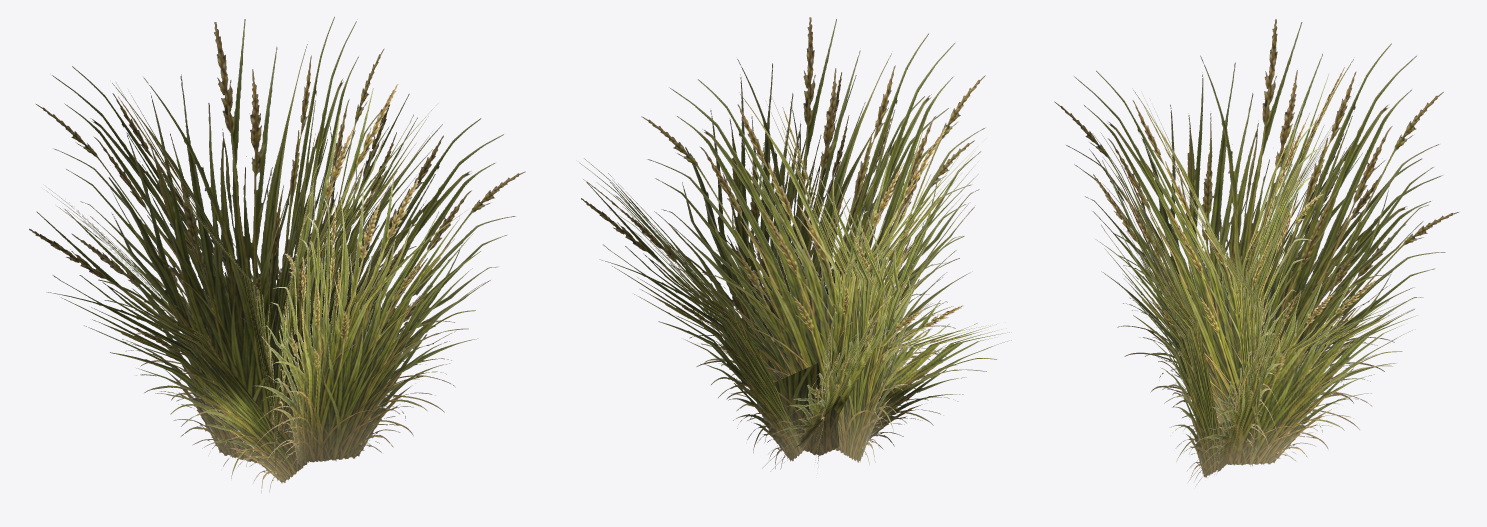
The model's file is SM_TallGrass_01.fbx.
The picture shows the model from 3 angles, left to right: view 1: azimuth 30°, elevation 25°; view 2: azimuth 150°, elevation 25°; view 3: azimuth 270°, elevation 25°; orthographic projection. The views are drawn at different scales.
Parts seen in each view (by area): view 1: SM_TallGrass_01; view 2: SM_TallGrass_01; view 3: SM_TallGrass_01.
Boxes of the visible parts, x1,y1,x2,y2 form: SM_TallGrass_01: (29, 16, 525, 493); SM_TallGrass_01: (579, 17, 1011, 473); SM_TallGrass_01: (1054, 19, 1458, 486).
Bounding box in the file's own units: 0.9934 × 0.8206 × 0.7924.
